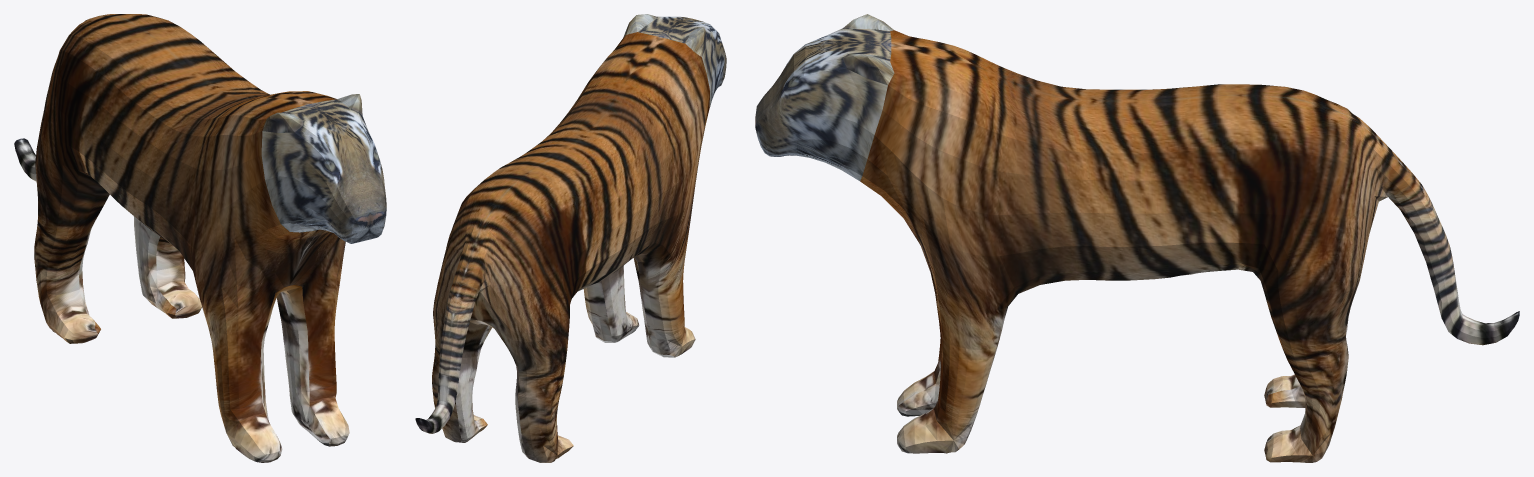
File: tiger.glb
3 views of the same model, side by side, from view 1: azimuth 30°, elevation 25°; view 2: azimuth 150°, elevation 25°; view 3: azimuth 270°, elevation 25° (orthographic). The views are drawn at different scales.
Bounding box in the file's own units: 0.2116 × 0.5093 × 0.8901.
1 material, 1 textured.
